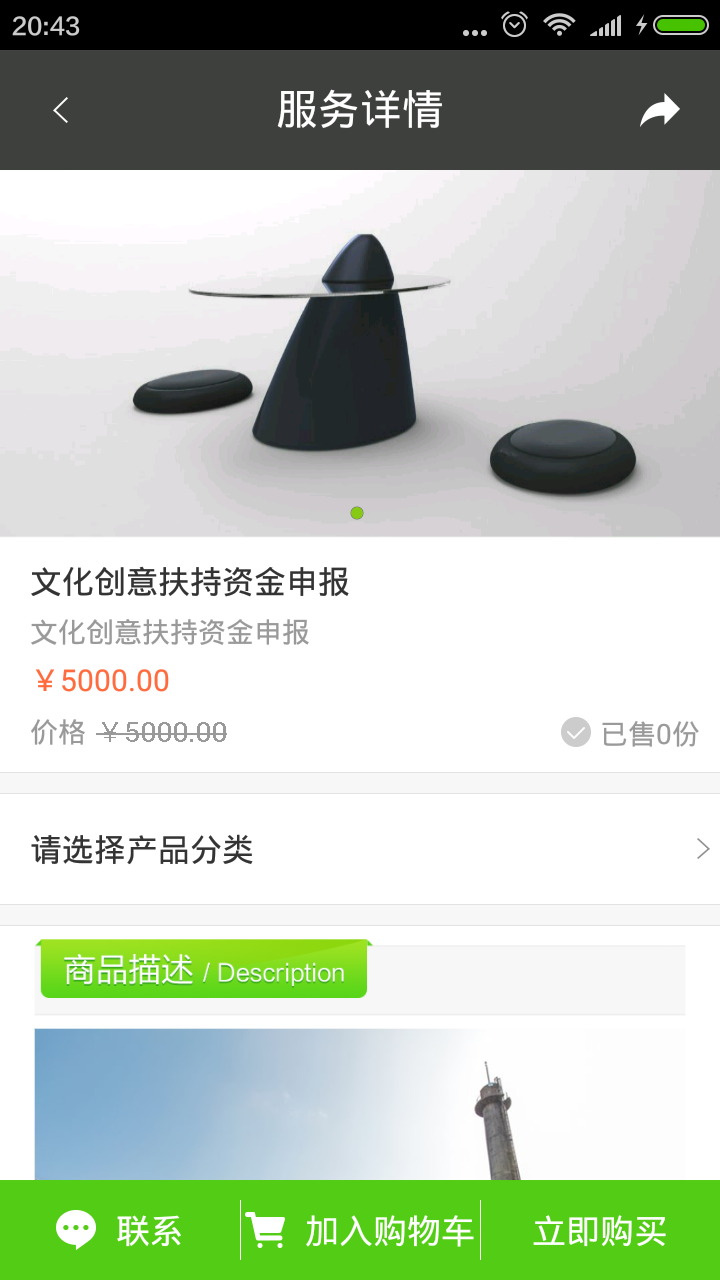nav: (1, 1181, 718, 1273)
textview: (10, 552, 720, 766)
